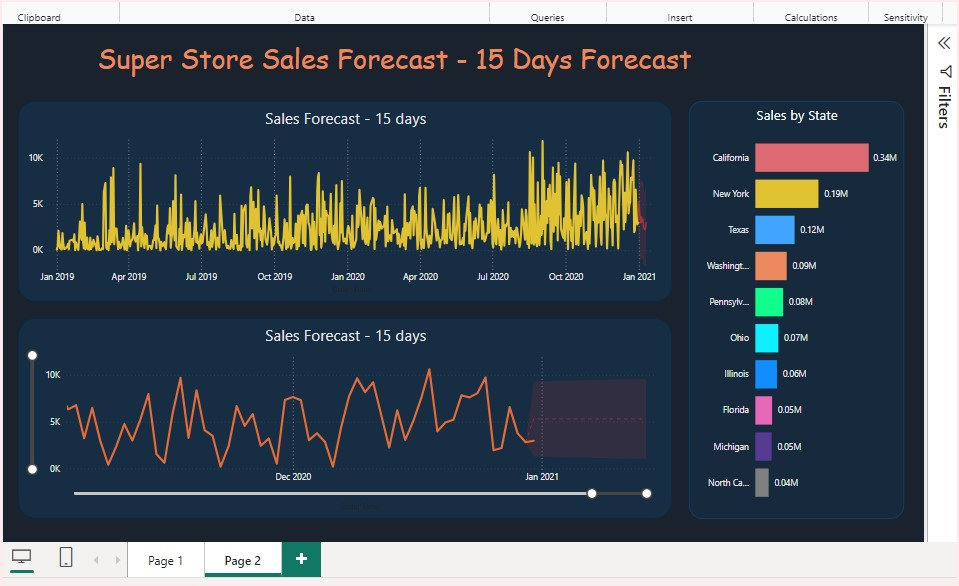

The dashboard page shown, as its layout file describes it:
{"tool":"powerbi","page":{"name":"Page 2","canvas":[1280,720],"ordinal":1},"visuals":[{"type":"lineChart","title":"Sales Forecast - 15 days","fields":{"Y":["Sum(SuperStore_Sales_Dataset (2).Sales)"],"Category":["SuperStore_Sales_Dataset (2).Order Date"]},"box":[20.8,107,909,279.4],"z":0},{"type":"lineChart","title":"Sales Forecast - 15 days","fields":{"Y":["Sum(SuperStore_Sales_Dataset (2).Sales)"],"Category":["SuperStore_Sales_Dataset (2).Order Date"]},"box":[20.8,408.6,909,279.4],"z":1000},{"type":"textbox","box":[20.8,16.7,1046.6,69.5],"z":2000},{"type":"clusteredBarChart","title":" Sales by State","fields":{"Y":["Sum(SuperStore_Sales_Dataset (2).Sales)"],"Category":["SuperStore_Sales_Dataset (2).State"]},"box":[953.5,107,298.8,581],"z":3000}]}

Visuals, with their boxes on the page's 1280x720 design canvas (x1, y1, x2, y2). These are canvas units, not pixel positions in the 959x586 screenshot, which may show the page scaled, cropped or inside an application window:
"Sales Forecast - 15 days" lineChart: <region>21, 107, 930, 386</region>
"Sales Forecast - 15 days" lineChart: <region>21, 409, 930, 688</region>
textbox: <region>21, 17, 1067, 86</region>
" Sales by State" clusteredBarChart: <region>954, 107, 1252, 688</region>
